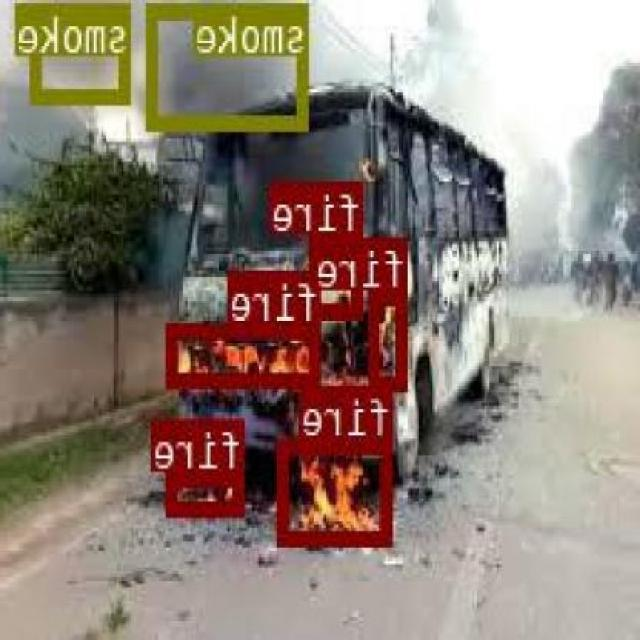Fire: (281, 438, 394, 542), (170, 321, 324, 384), (312, 232, 365, 314), (372, 286, 408, 388), (168, 472, 247, 512)
Smoke: (149, 3, 311, 128), (32, 0, 132, 100)
